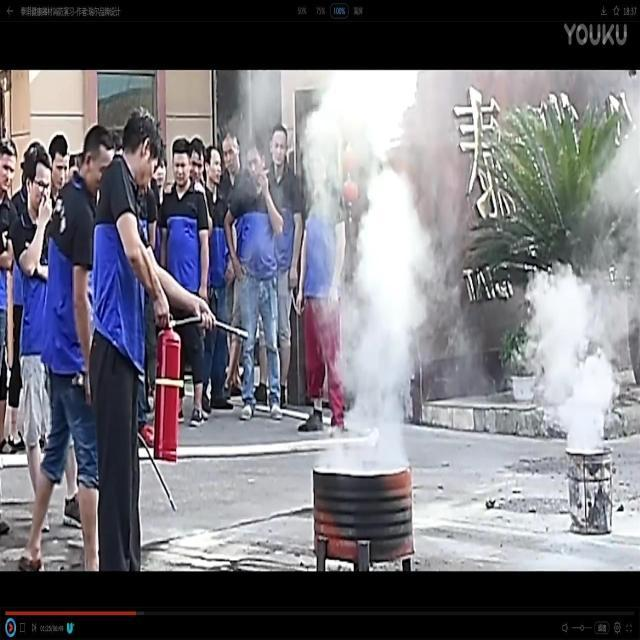Smoke: (227, 70, 483, 476), (523, 98, 640, 454)
